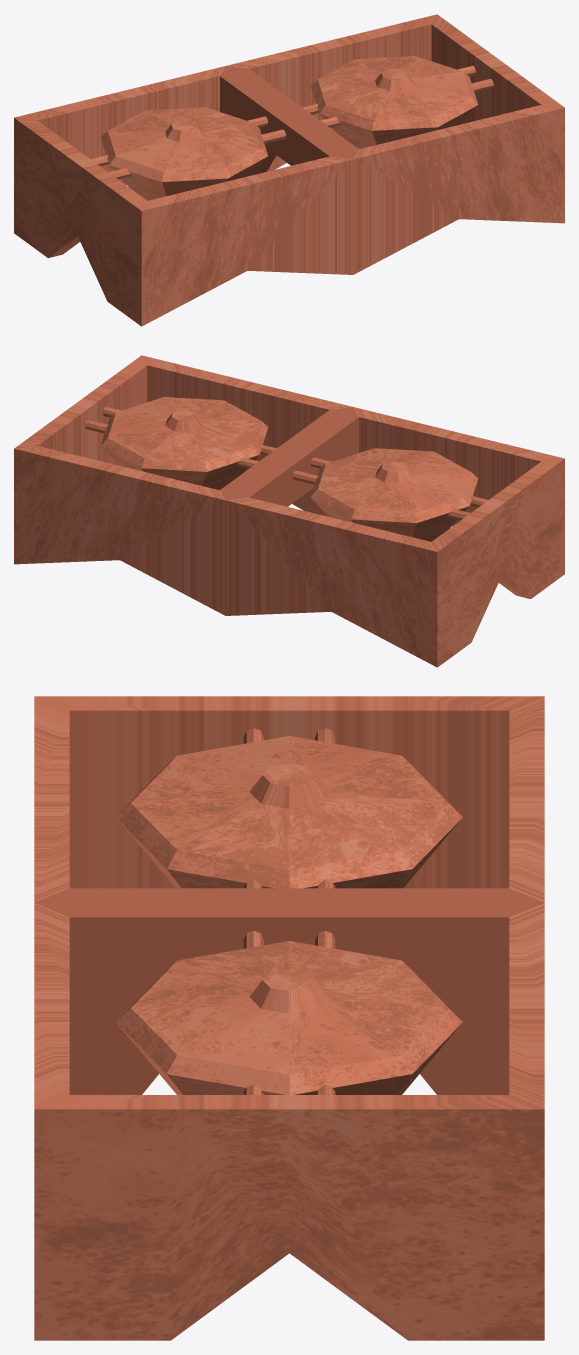
File: Canang.fbx
The picture shows the model from 3 angles, top to bottom: view 1: azimuth 30°, elevation 25°; view 2: azimuth 150°, elevation 25°; view 3: azimuth 270°, elevation 25°; orthographic projection. The views are drawn at different scales.
Visible parts, largest first — view 1: Canang; view 2: Canang; view 3: Canang.
Part boxes in pixels (x1,y1,x2,y2): Canang: (14,14,564,326); Canang: (14,355,564,667); Canang: (34,696,544,1340).
Bounding box in the file's own units: 115 × 33.29 × 60.
Materials: 1 (1 with a texture image).
